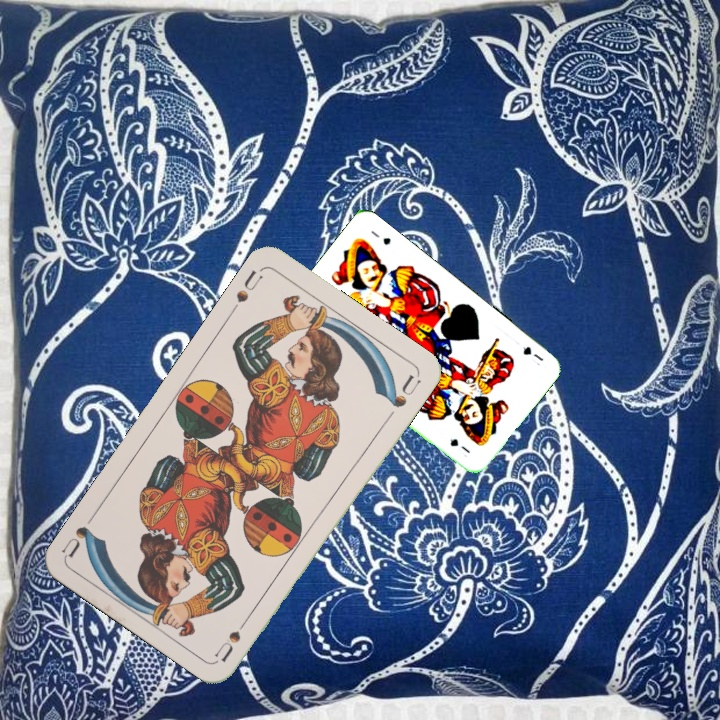GU: (519, 342, 546, 368)
SU: (211, 610, 254, 665), (231, 265, 266, 306)
